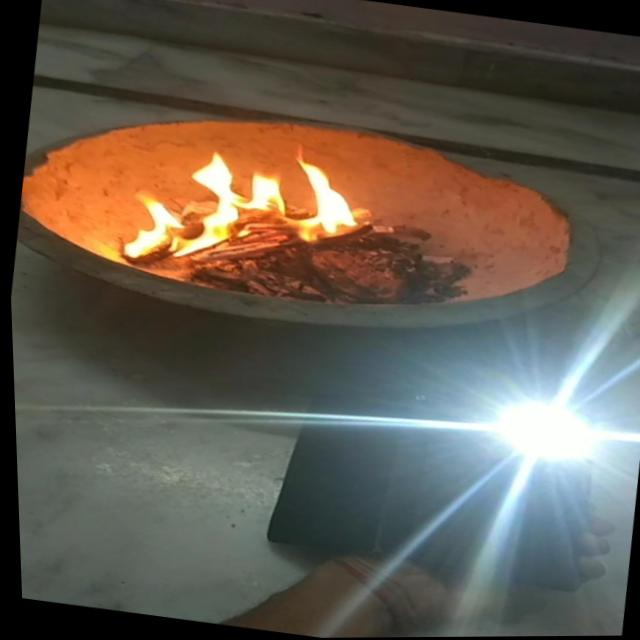fire: (97, 126, 379, 295)
